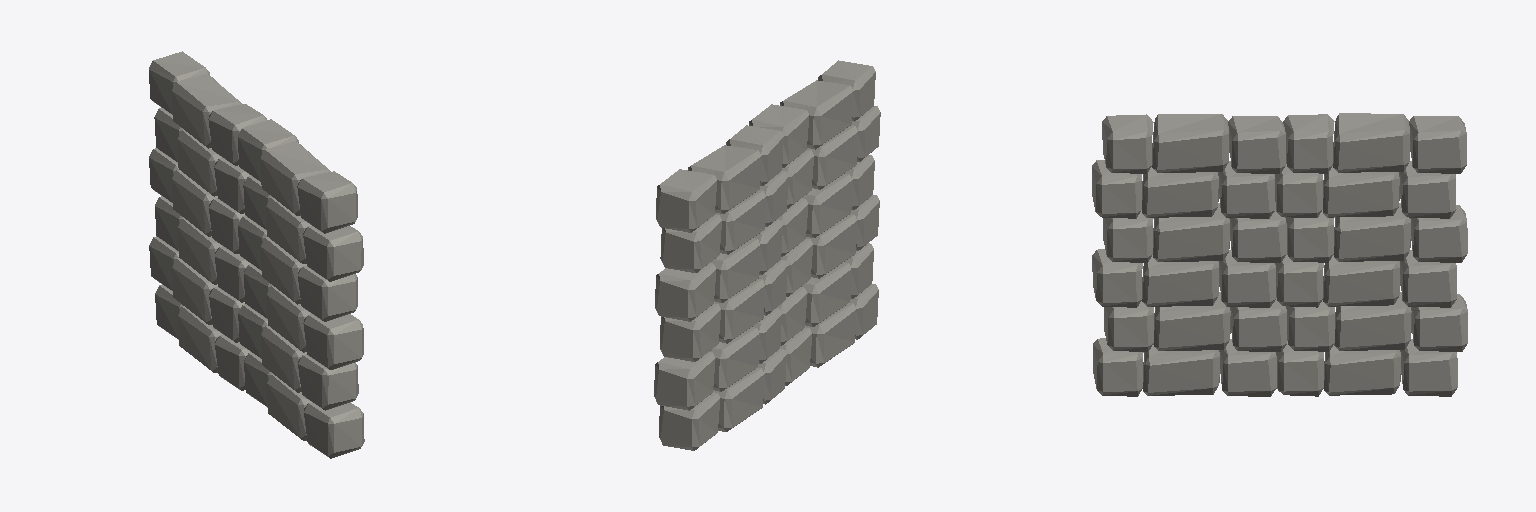
File: kicsifal.obj
3 renders of one model, left to right at view 1: azimuth 30°, elevation 25°; view 2: azimuth 150°, elevation 25°; view 3: azimuth 270°, elevation 25°, orthographic.
Visible parts, largest first — view 1: Cube.004_Cube.005; view 2: Cube.004_Cube.005; view 3: Cube.004_Cube.005.
Part boxes in pixels (bbox=[...]): Cube.004_Cube.005: bbox=[149, 51, 364, 458]; Cube.004_Cube.005: bbox=[654, 60, 880, 450]; Cube.004_Cube.005: bbox=[1092, 113, 1467, 396].
Bounding box in the file's own units: 2.43 × 12.38 × 15.76.